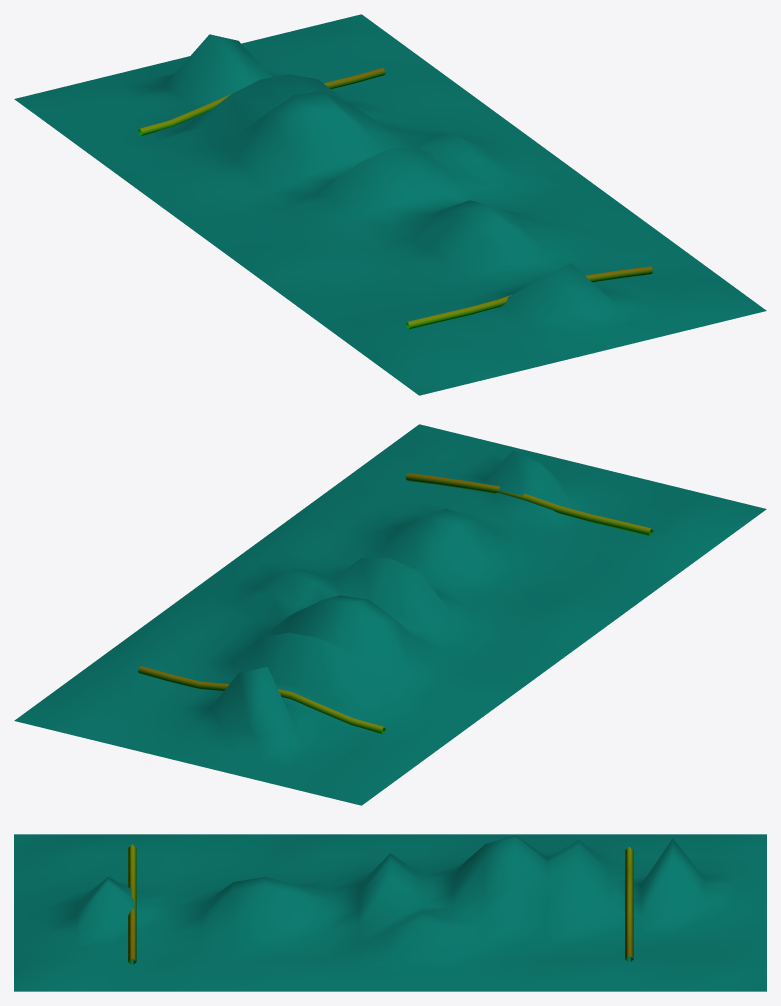
The model's file is shroud_b.glb.
The picture shows the model from 3 angles, top to bottom: view 1: azimuth 30°, elevation 25°; view 2: azimuth 150°, elevation 25°; view 3: azimuth 270°, elevation 25°; orthographic projection. The views are drawn at different scales.
Parts seen in each view (by area): view 1: shroud_b; view 2: shroud_b; view 3: shroud_b.
Boxes of the visible parts, bbox=[...] form: shroud_b: bbox=[14, 14, 766, 395]; shroud_b: bbox=[14, 424, 766, 805]; shroud_b: bbox=[14, 834, 766, 991].
Size of what is drawn, in the model's own units: 1.04 by 0.1928 by 2.1.
